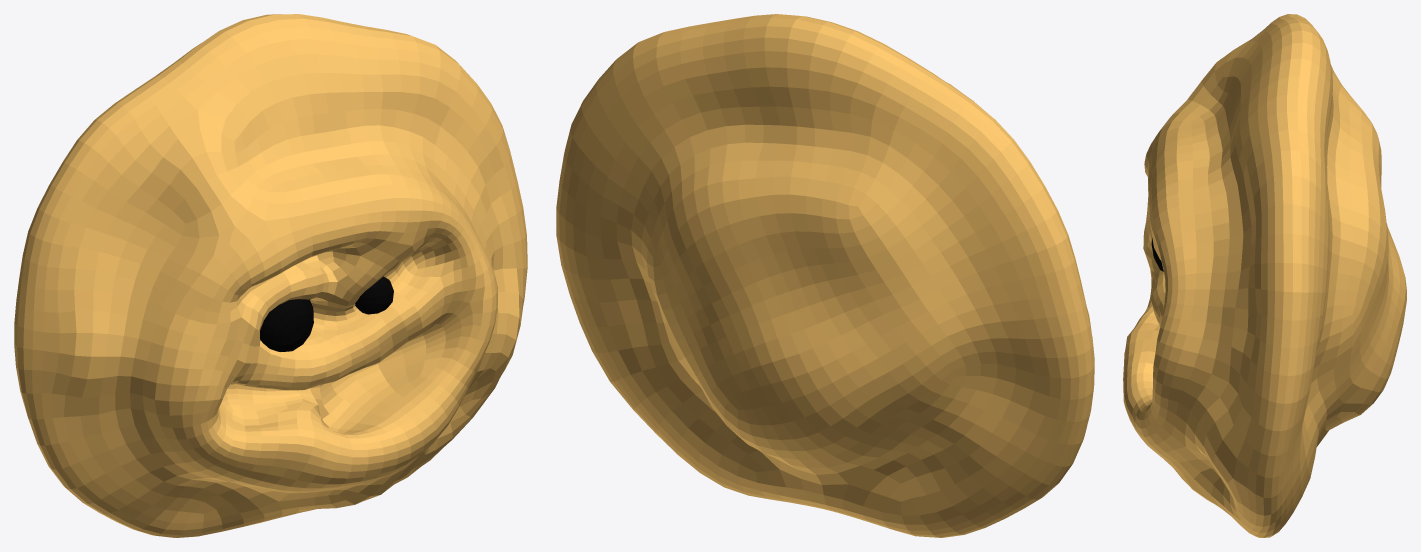
Rendered from pelmen1.obj.
The picture shows the model from 3 angles, left to right: view 1: azimuth 30°, elevation 25°; view 2: azimuth 150°, elevation 25°; view 3: azimuth 270°, elevation 25°; orthographic projection. The views are drawn at different scales.
Visible parts, largest first — view 1: Retopo_Quad_Sphere_mesh; view 2: Retopo_Quad_Sphere_mesh; view 3: Retopo_Quad_Sphere_mesh.
Part boxes in pixels (x1,y1,x2,y2): Retopo_Quad_Sphere_mesh: (14, 14, 527, 537); Retopo_Quad_Sphere_mesh: (556, 14, 1094, 537); Retopo_Quad_Sphere_mesh: (1123, 14, 1406, 537).
Size of the model in its own units: 3.99 by 3.64 by 2.05.
